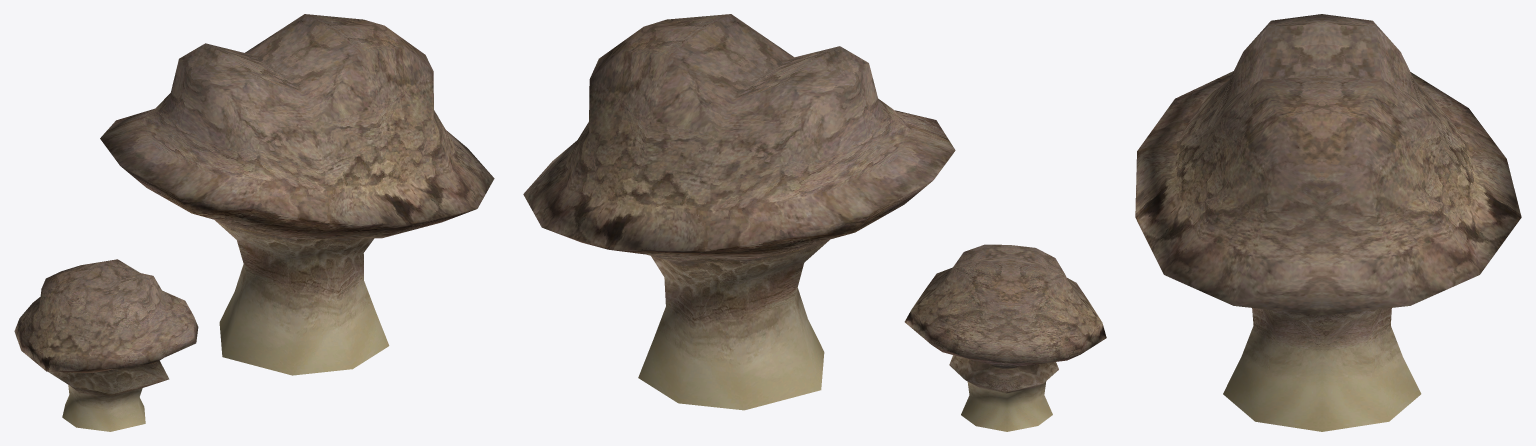
File: donhwang_mushroom_rock.glb
The picture shows the model from 3 angles, left to right: view 1: azimuth 30°, elevation 25°; view 2: azimuth 150°, elevation 25°; view 3: azimuth 270°, elevation 25°; orthographic projection. The views are drawn at different scales.
Visible parts, largest first — view 1: st_mushroom_rock01; view 2: st_mushroom_rock01; view 3: st_mushroom_rock01.
Part boxes in pixels (x1,y1,x2,y2): st_mushroom_rock01: [14, 14, 494, 431]; st_mushroom_rock01: [523, 14, 1106, 431]; st_mushroom_rock01: [1135, 14, 1521, 431].
Bounding box in the file's own units: 26.51 × 16.51 × 17.31.
1 material, 1 textured.
